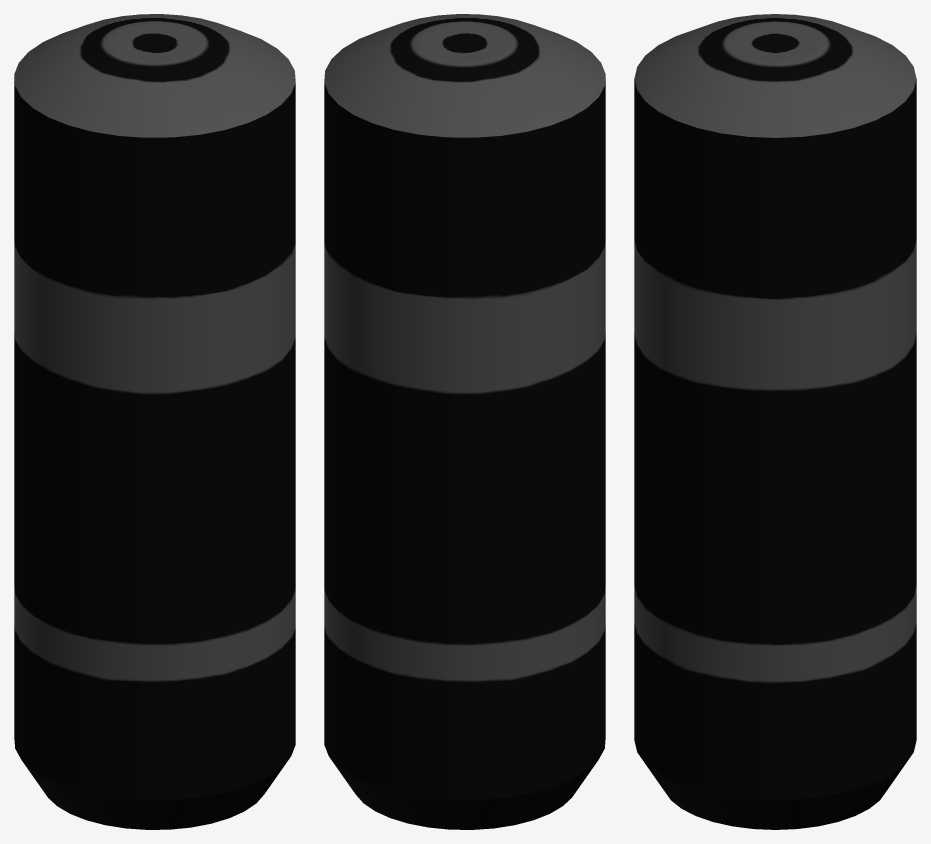
File: hajtomu.fbx
3 views of the same model, side by side, from view 1: azimuth 30°, elevation 25°; view 2: azimuth 150°, elevation 25°; view 3: azimuth 270°, elevation 25° (orthographic).
Parts seen in each view (by area): view 1: Egész hajtómű; view 2: Egész hajtómű; view 3: Egész hajtómű.
Boxes of the visible parts, <box> form: Egész hajtómű: <box>14,14,295,829</box>; Egész hajtómű: <box>324,14,605,829</box>; Egész hajtómű: <box>634,14,916,829</box>.
Size of the model in its own units: 250 by 722 by 250.
1 material, 1 textured.
